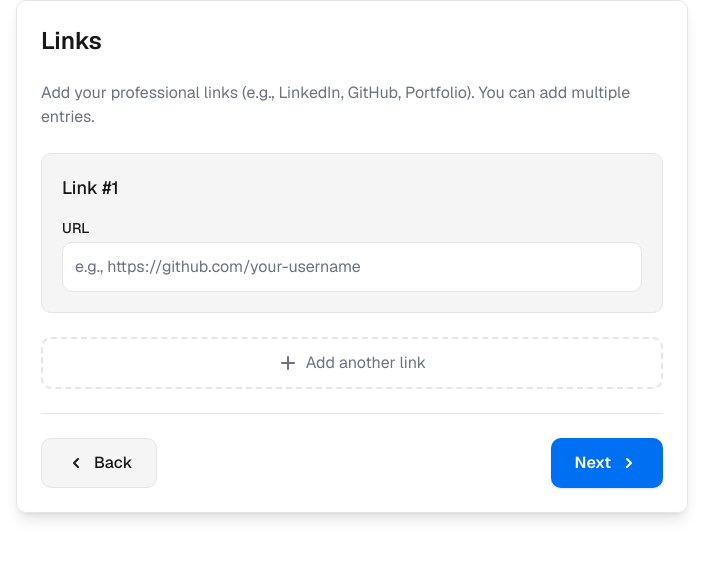
LinksForm Component › Walidacja i przesyłanie (Submit) › powinien wyświetlić błąd walidacji, jeśli podano nieprawidłowy format URL
Type "to-nie-jest-link" into the field.
click(352, 267); type("to-nie-jest-link")  # box [62,242,642,292]
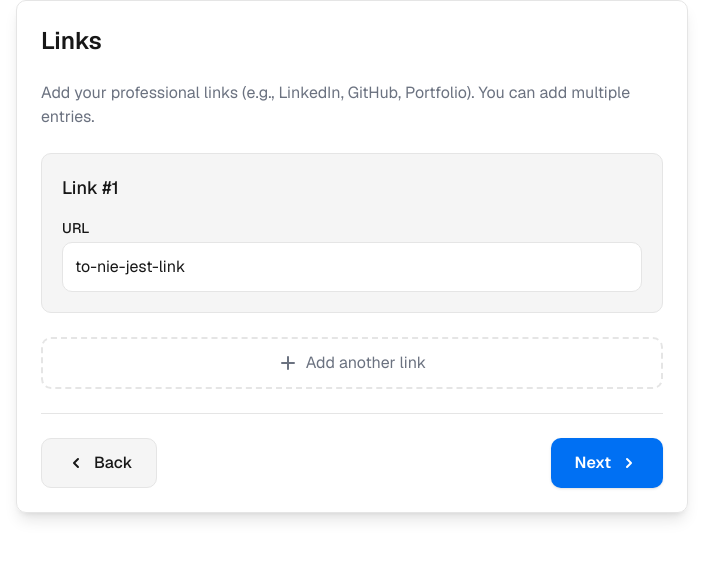
Click the button "Next".
click(607, 463)  # box [551,438,663,488]
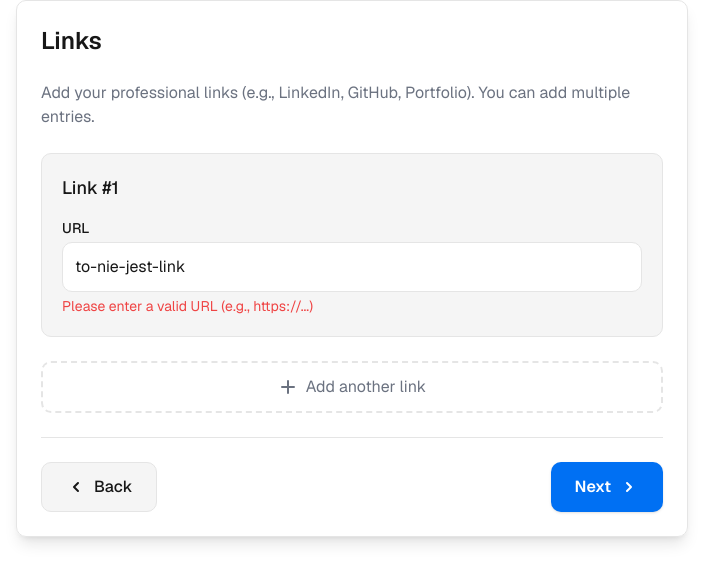
Expected: the text "Please enter a valid URL (e.g., https://...)" is shown, [62,297,313,315]
